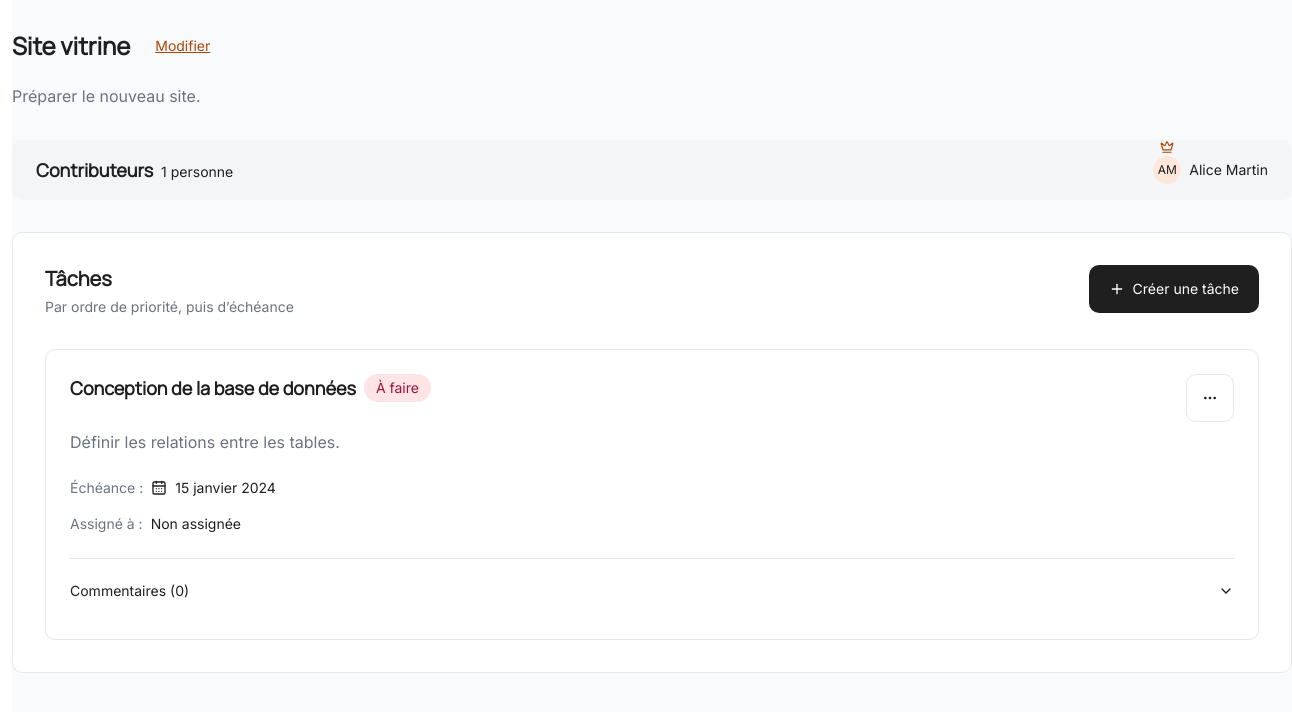
project tasks › announces the absence of comments when the empty disclosure is opened
This screenshot has width=1292, height=712.
What coordinates should you click on to do the following:
click the button "Commentaires (0)"
I would click on:
 (123, 590)
Its box is [70,567,1234,615].
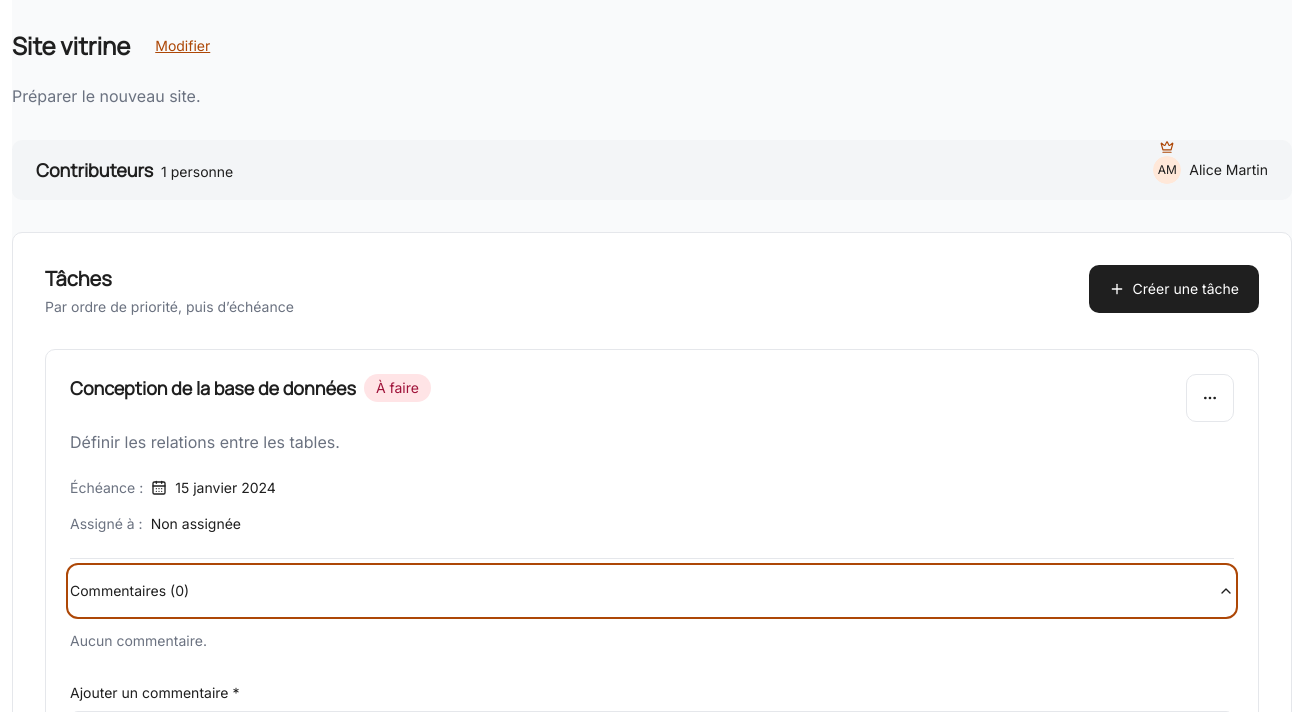
Check: the button "Commentaires (0)" is expanded, box [70,567,1234,615]
Check: the text "Aucun commentaire." is shown, box [70,632,207,649]
